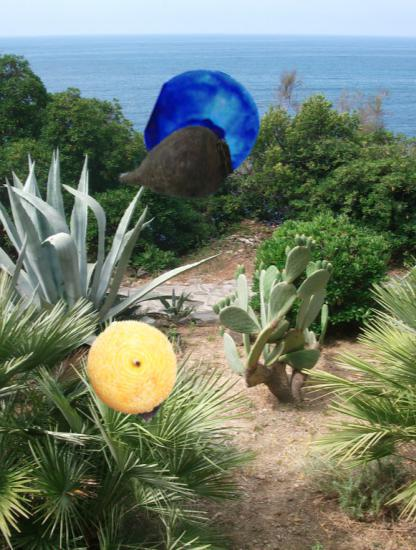Beetroot: (115, 106, 235, 226)
Cantaloupe: (84, 318, 181, 415)
Chestnut: (86, 328, 180, 422)
Huckleberry: (145, 69, 261, 185)
